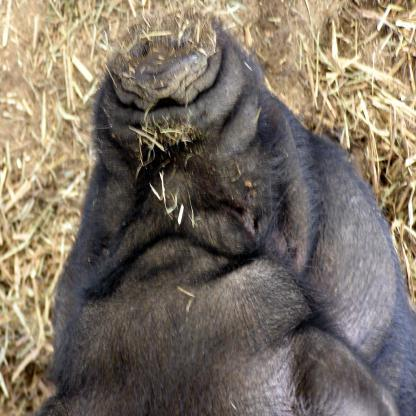boar: (28, 11, 415, 416)
